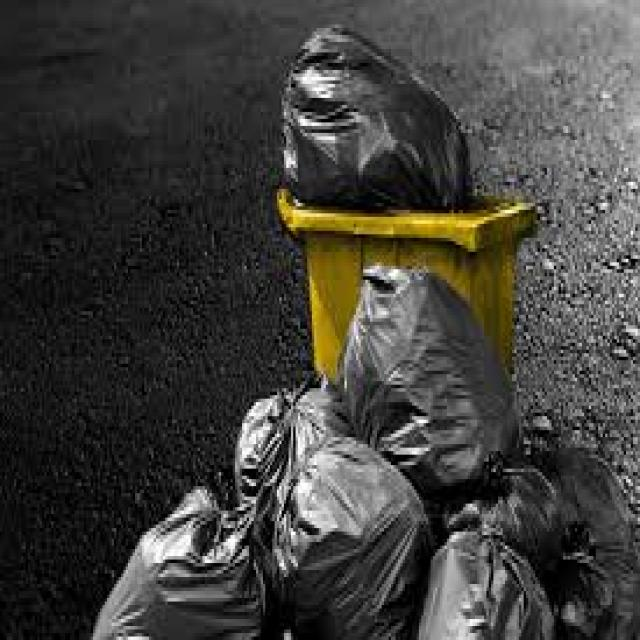plastic_bag: (283, 36, 478, 193), (487, 435, 640, 631), (88, 494, 274, 640), (332, 288, 499, 435), (278, 459, 413, 627), (234, 396, 329, 533), (428, 518, 532, 640)
